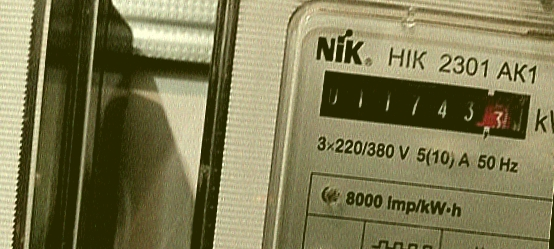0: (325, 79, 342, 108)
1: (352, 82, 369, 111), (380, 85, 396, 114)
3: (461, 96, 477, 125), (489, 109, 506, 131)
4: (435, 95, 451, 121)
7: (407, 91, 423, 117)
screen: (311, 64, 541, 148)
